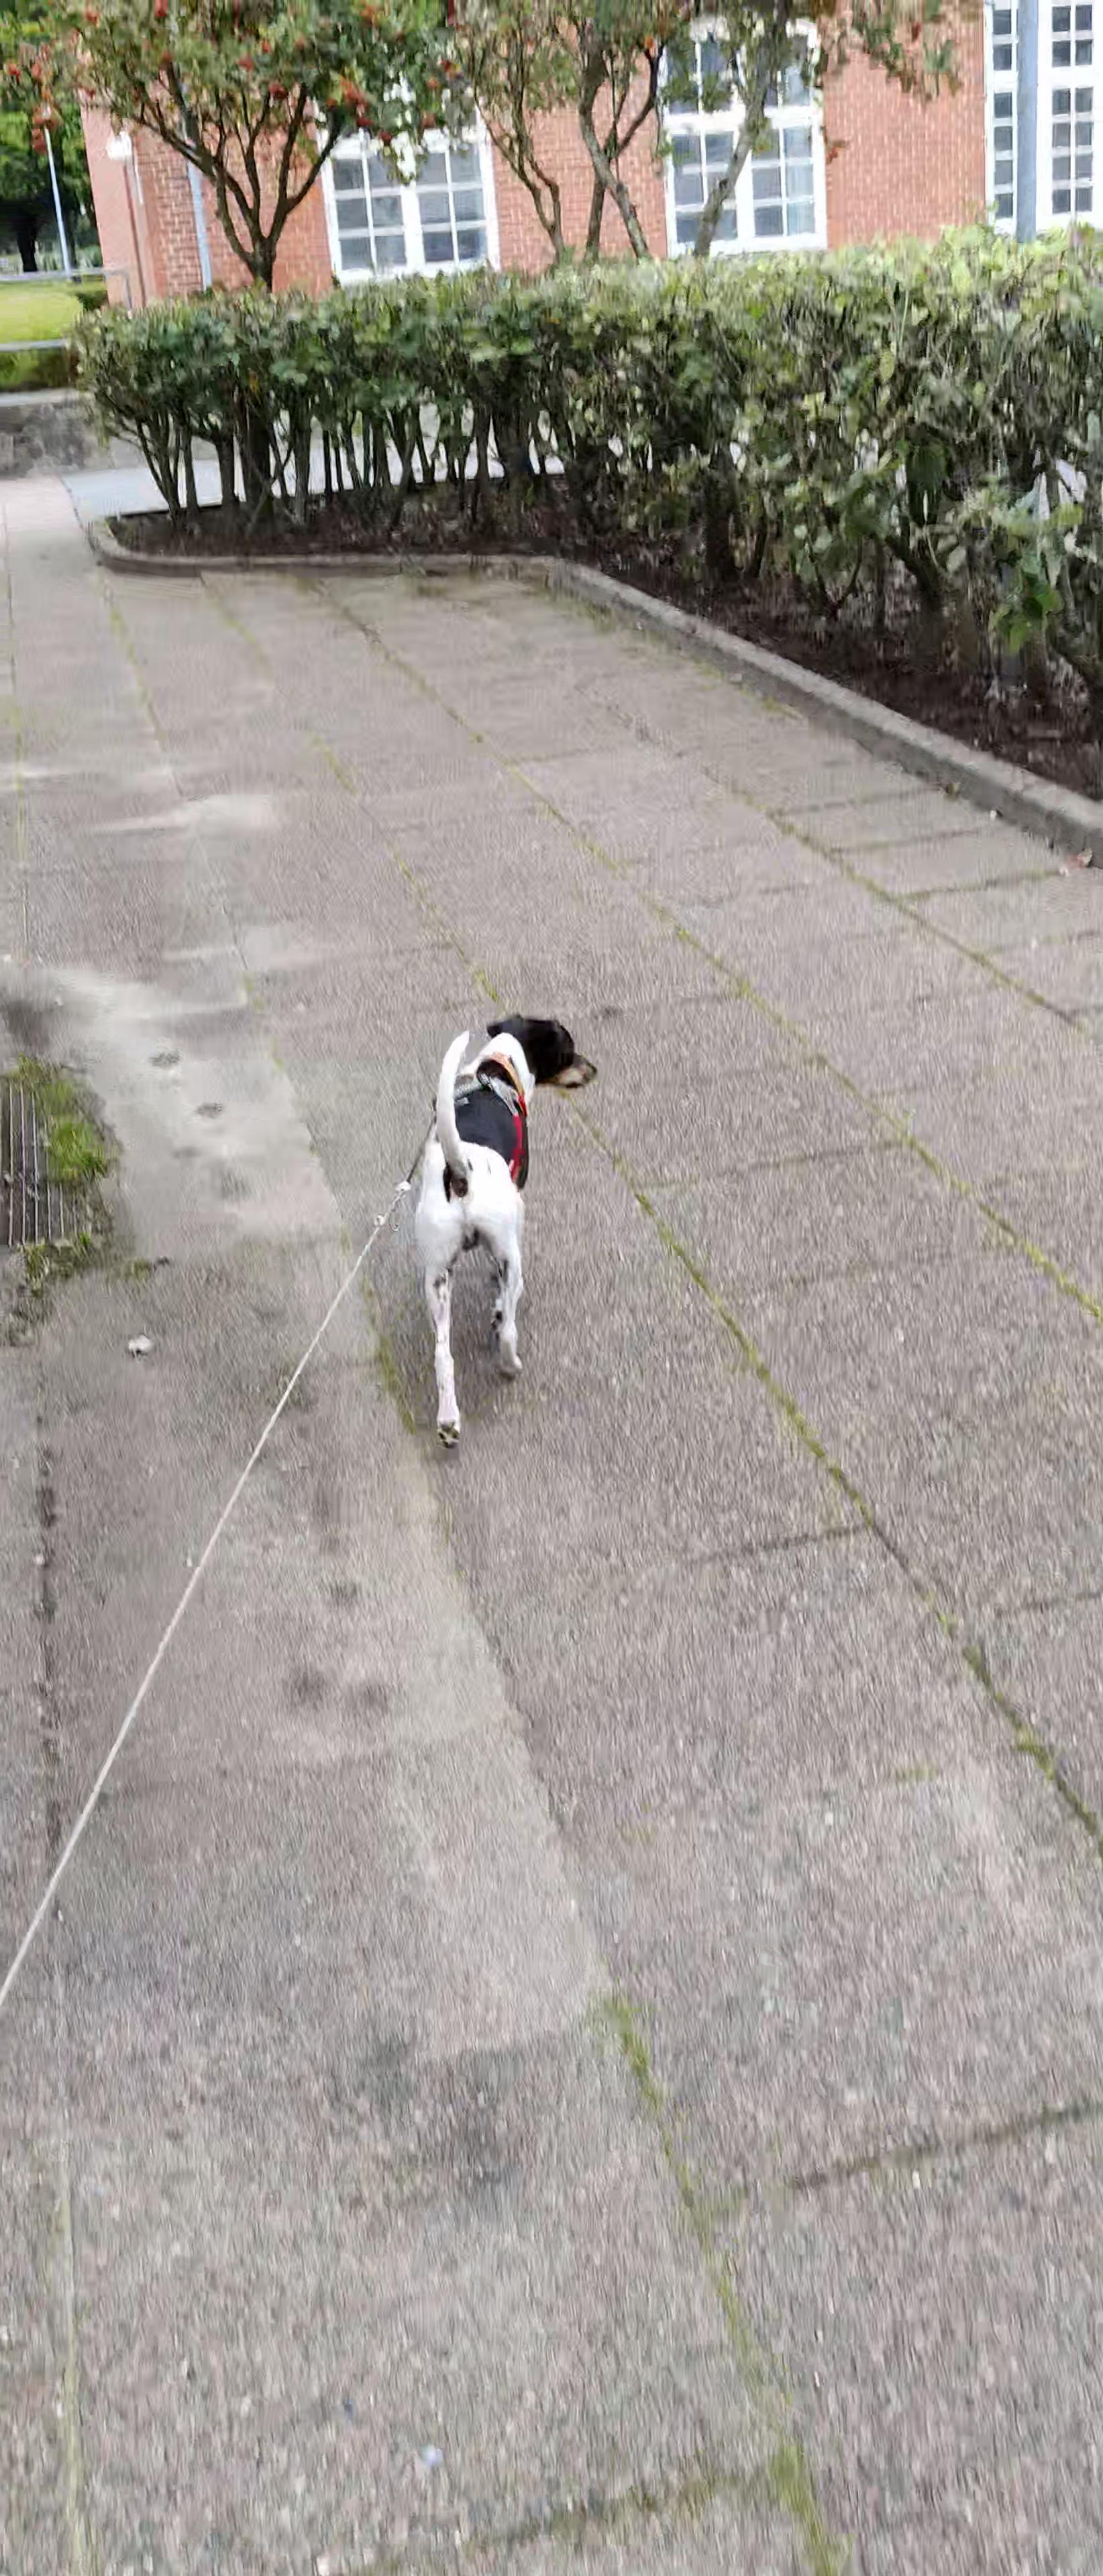Dog: (404, 1002, 600, 1449)
